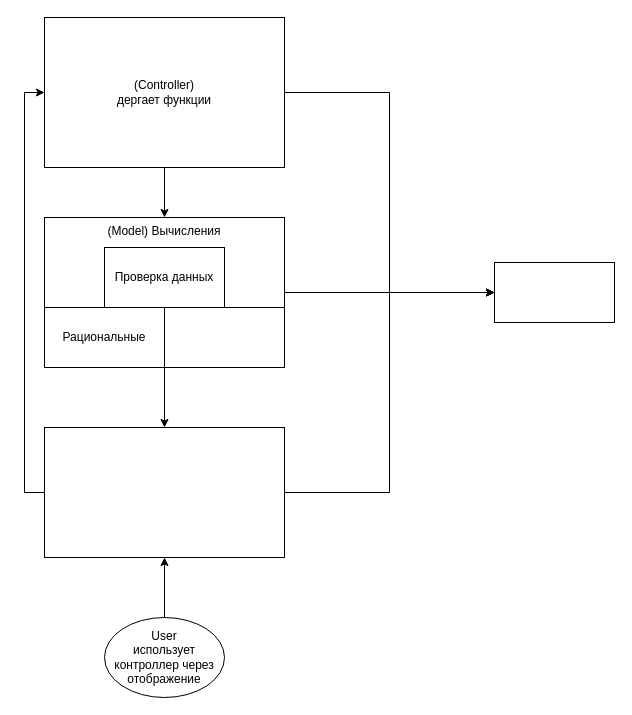
The diagram is 632 pixels wide and 715 high, and some of its shapes have lost their labels. The shapes that lost their labels are listed below. From the top down, each one's centre as x and y in pixels, then its label:
At (554,292): "Логирование".
At (224,337): "Комплексные".
At (164,492): "(View) Отображение Вывод возможностей Вывод данных Чтение комманд".
